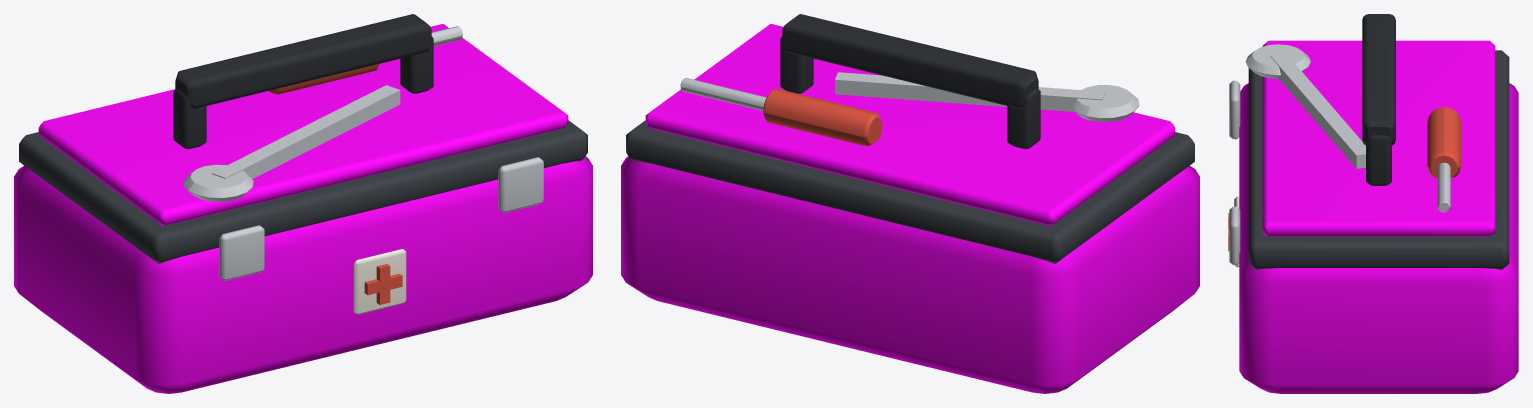
Rendered from objet_kit_reparation.glb.
3 views of the same model, side by side, from view 1: azimuth 30°, elevation 25°; view 2: azimuth 150°, elevation 25°; view 3: azimuth 270°, elevation 25° (orthographic). The views are drawn at different scales.
Parts seen in each view (by area): view 1: kit_teinte.002, kit_teinte_sombre.002, kit_composant.002, kit_composant_clair.002, kit_etiquette.002, kit_led_rouge.002; view 2: kit_teinte.002, kit_teinte_sombre.002, kit_composant.002, kit_composant_clair.002, kit_led_rouge.002; view 3: kit_teinte.002, kit_teinte_sombre.002, kit_composant_clair.002, kit_composant.002, kit_led_rouge.002.
Part boxes in pixels (<box>): kit_teinte.002: <box>14,24,592,393</box>; kit_teinte_sombre.002: <box>19,120,587,263</box>; kit_composant.002: <box>173,14,433,148</box>; kit_composant_clair.002: <box>183,26,543,280</box>; kit_etiquette.002: <box>353,249,406,314</box>; kit_led_rouge.002: <box>269,64,402,304</box>; kit_teinte.002: <box>621,24,1199,393</box>; kit_teinte_sombre.002: <box>626,120,1194,263</box>; kit_composant.002: <box>780,14,1040,148</box>; kit_composant_clair.002: <box>680,72,1139,122</box>; kit_led_rouge.002: <box>763,88,882,146</box>; kit_teinte.002: <box>1239,40,1518,393</box>; kit_teinte_sombre.002: <box>1248,50,1509,269</box>; kit_composant_clair.002: <box>1229,44,1450,265</box>; kit_composant.002: <box>1362,14,1395,185</box>; kit_led_rouge.002: <box>1228,107,1460,251</box>.
Size of the model in its own units: 0.26 by 0.138 by 0.156.
